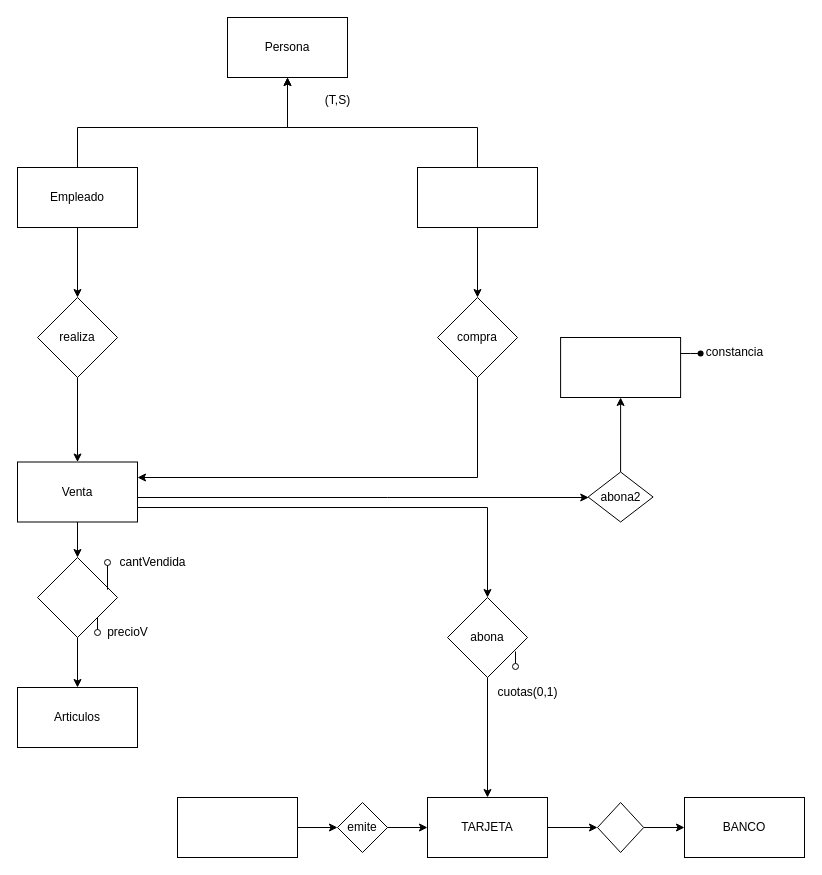
Some shapes in this 822 by 875 pixel diagram are drawn without their labels. Each missing label, with the centre of its shape:
"Cliente" goes at (477,197).
"Efectivo" goes at (620,367).
"ENTIDAD EMISORA" goes at (237,827).
"pertenece" goes at (620,827).
"registra" goes at (77,597).
